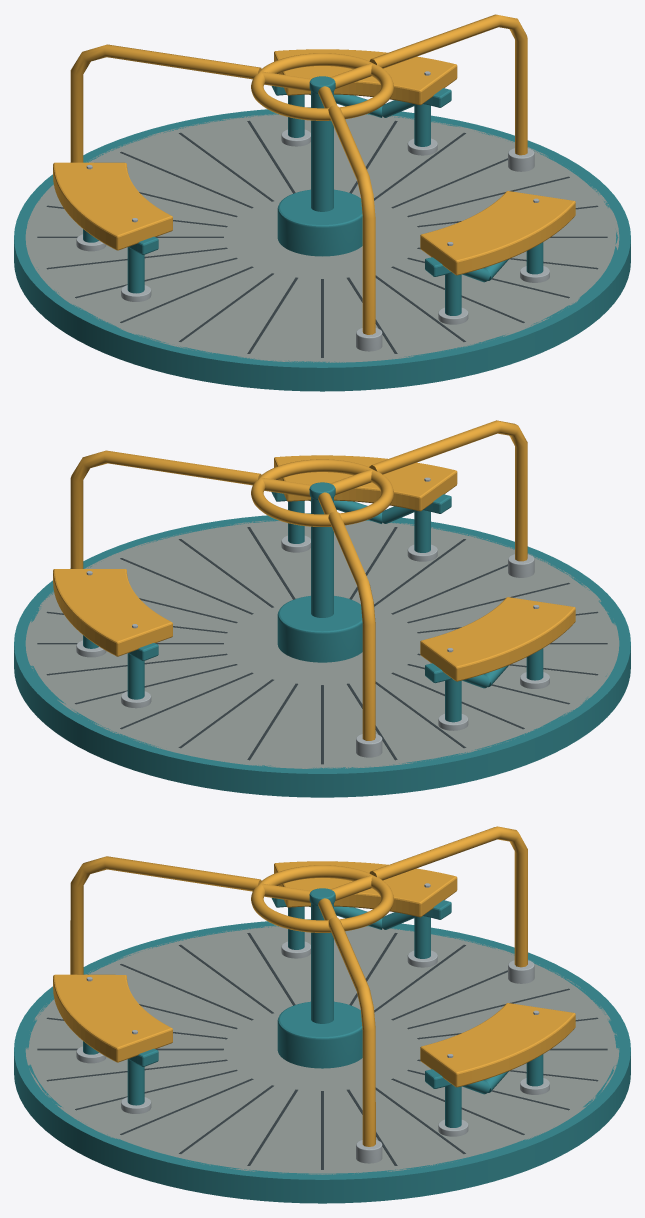
Rendered from city-playground-roundabout.glb.
3 renders of one model, top to bottom at view 1: azimuth 30°, elevation 25°; view 2: azimuth 150°, elevation 25°; view 3: azimuth 270°, elevation 25°, orthographic.
Visible parts, largest first — view 1: Assembly | Warm grey nonslip deck appearance, Assembly | Muted petrol powder coating, Assembly | Ochre yellow powder coating, Assembly | Dark graphite coated frame, Assembly | Satin galvanized small fittings; view 2: Assembly | Warm grey nonslip deck appearance, Assembly | Muted petrol powder coating, Assembly | Ochre yellow powder coating, Assembly | Dark graphite coated frame, Assembly | Satin galvanized small fittings; view 3: Assembly | Warm grey nonslip deck appearance, Assembly | Muted petrol powder coating, Assembly | Ochre yellow powder coating, Assembly | Dark graphite coated frame, Assembly | Satin galvanized small fittings.
Part boxes in pixels (x1,y1,x2,y2): Assembly | Warm grey nonslip deck appearance: [25, 113, 619, 362]; Assembly | Muted petrol powder coating: [14, 76, 630, 391]; Assembly | Ochre yellow powder coating: [53, 14, 575, 334]; Assembly | Dark graphite coated frame: [37, 120, 607, 357]; Assembly | Satin galvanized small fittings: [76, 71, 549, 351]; Assembly | Warm grey nonslip deck appearance: [25, 520, 619, 768]; Assembly | Muted petrol powder coating: [14, 482, 630, 797]; Assembly | Ochre yellow powder coating: [53, 420, 575, 740]; Assembly | Dark graphite coated frame: [37, 527, 607, 764]; Assembly | Satin galvanized small fittings: [76, 477, 549, 757]; Assembly | Warm grey nonslip deck appearance: [25, 925, 619, 1174]; Assembly | Muted petrol powder coating: [14, 888, 630, 1203]; Assembly | Ochre yellow powder coating: [53, 826, 575, 1146]; Assembly | Dark graphite coated frame: [37, 933, 607, 1169]; Assembly | Satin galvanized small fittings: [76, 883, 549, 1163].
Size of the model in its own units: 2.13 by 0.9469 by 2.13.
